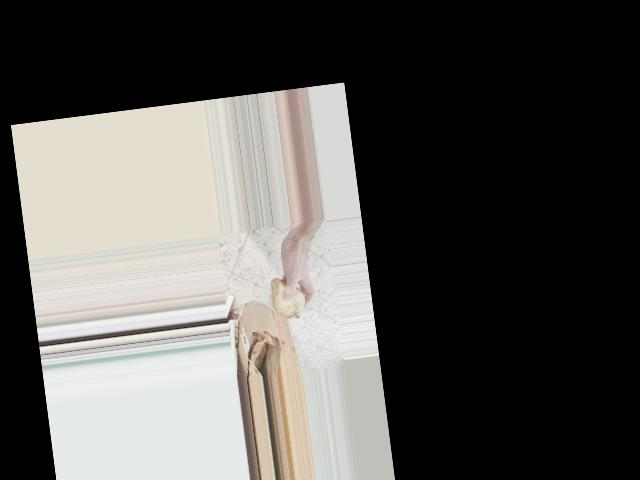onion: (266, 271, 312, 323)
